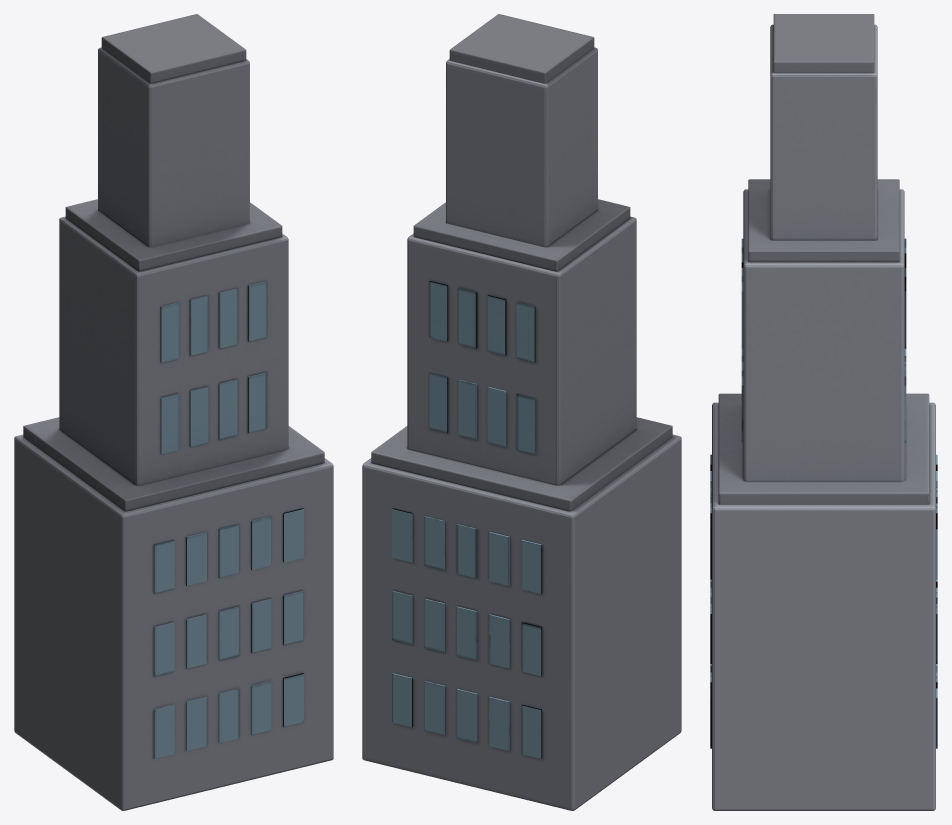
The model's file is building_b.glb.
3 renders of one model, left to right at view 1: azimuth 30°, elevation 25°; view 2: azimuth 150°, elevation 25°; view 3: azimuth 270°, elevation 25°, orthographic. The views are drawn at different scales.
Parts seen in each view (by area): view 1: building_b; view 2: building_b; view 3: building_b.
Part boxes in pixels (x1,y1,x2,y2): building_b: (14, 14, 333, 810); building_b: (362, 14, 681, 810); building_b: (710, 14, 937, 810).
Size of the model in its own units: 9 by 28.45 by 8.12.
Materials: 3 (3 with a texture image).
